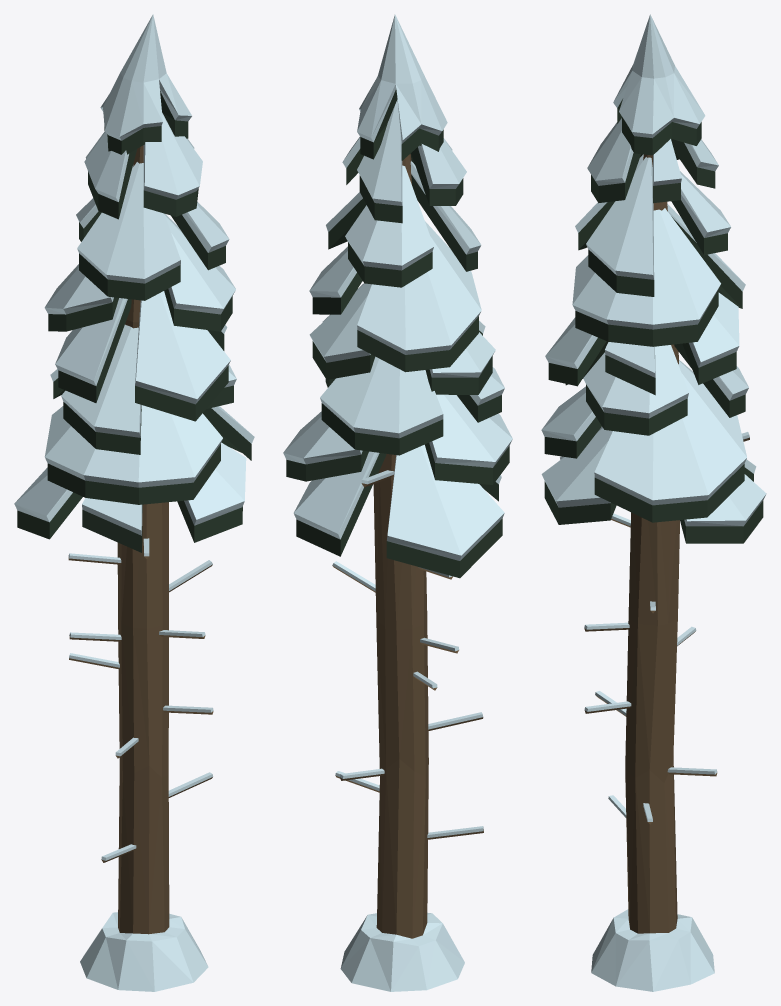
Rendered from SM_Env_Tree_Pine_Large_01_Snow.fbx.
3 views of the same model, side by side, from view 1: azimuth 30°, elevation 25°; view 2: azimuth 150°, elevation 25°; view 3: azimuth 270°, elevation 25° (orthographic).
Visible parts, largest first — view 1: SM_Env_Tree_Pine_Large_01_Snow; view 2: SM_Env_Tree_Pine_Large_01_Snow; view 3: SM_Env_Tree_Pine_Large_01_Snow.
Part boxes in pixels (left/top/right/bottom): SM_Env_Tree_Pine_Large_01_Snow: left=14, top=14, right=254, bottom=991; SM_Env_Tree_Pine_Large_01_Snow: left=283, top=14, right=512, bottom=991; SM_Env_Tree_Pine_Large_01_Snow: left=541, top=14, right=766, bottom=991.
Bounding box in the file's own units: 212 × 971 × 204.
